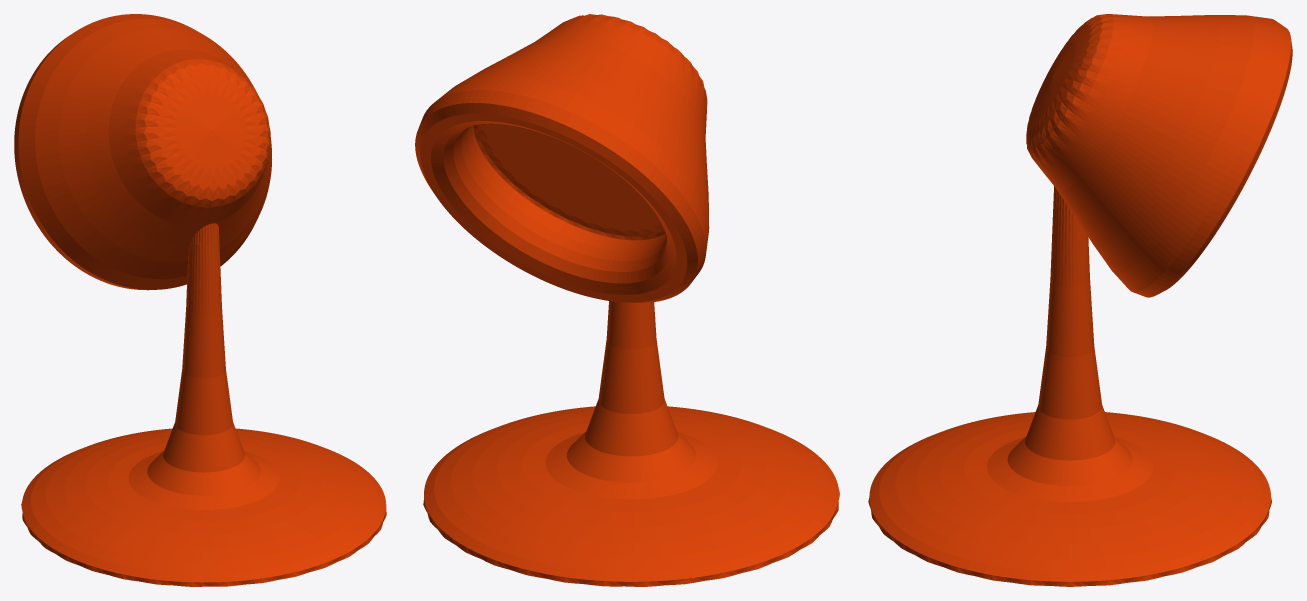
File: lamp.obj
The picture shows the model from 3 angles, left to right: view 1: azimuth 30°, elevation 25°; view 2: azimuth 150°, elevation 25°; view 3: azimuth 270°, elevation 25°; orthographic projection. The views are drawn at different scales.
Parts seen in each view (by area): view 1: Cylinder; view 2: Cylinder; view 3: Cylinder.
Part boxes in pixels (x1,y1,x2,y2): Cylinder: [14, 14, 386, 586]; Cylinder: [415, 14, 839, 586]; Cylinder: [868, 14, 1292, 586].
Size of the model in its own units: 0.3871 by 0.5173 by 0.4068.
